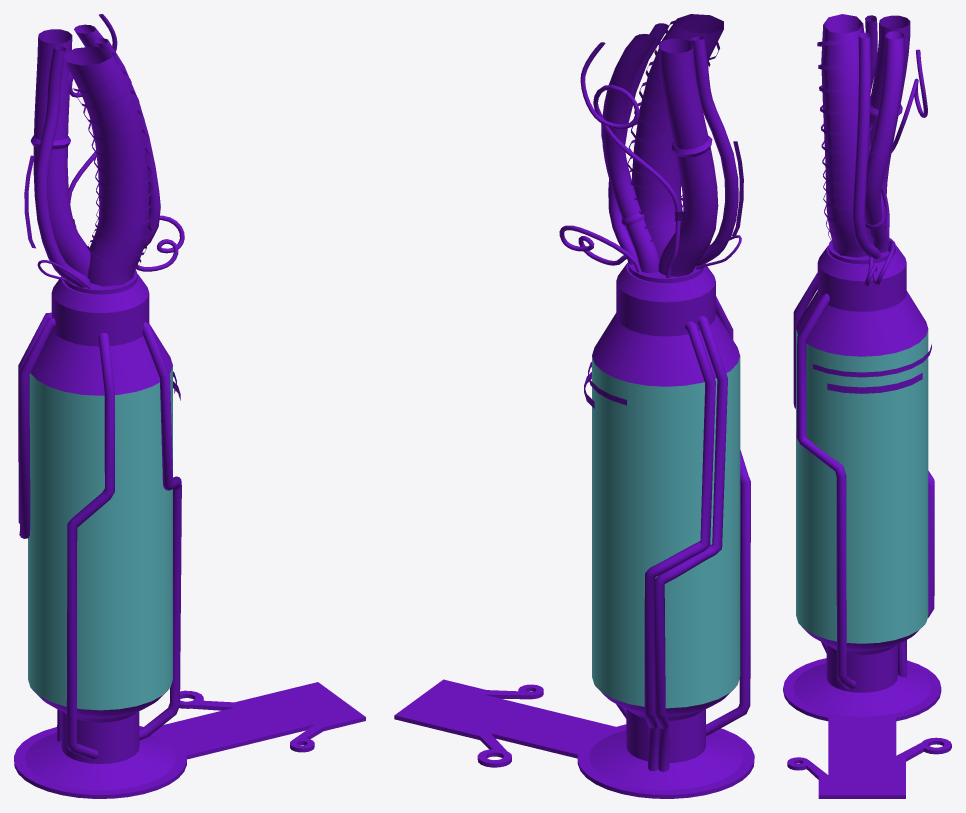
File: SM_IncubateurNinon.fbx
3 renders of one model, left to right at view 1: azimuth 30°, elevation 25°; view 2: azimuth 150°, elevation 25°; view 3: azimuth 270°, elevation 25°, orthographic. The views are drawn at different scales.
Visible parts, largest first — view 1: SM_tube.001; view 2: SM_tube.001; view 3: SM_tube.001.
Part boxes in pixels (x1,y1,x2,y2): SM_tube.001: (14, 14, 365, 798); SM_tube.001: (394, 14, 754, 798); SM_tube.001: (783, 14, 951, 798).
Size of the model in its own units: 108 by 234 by 54.31.
